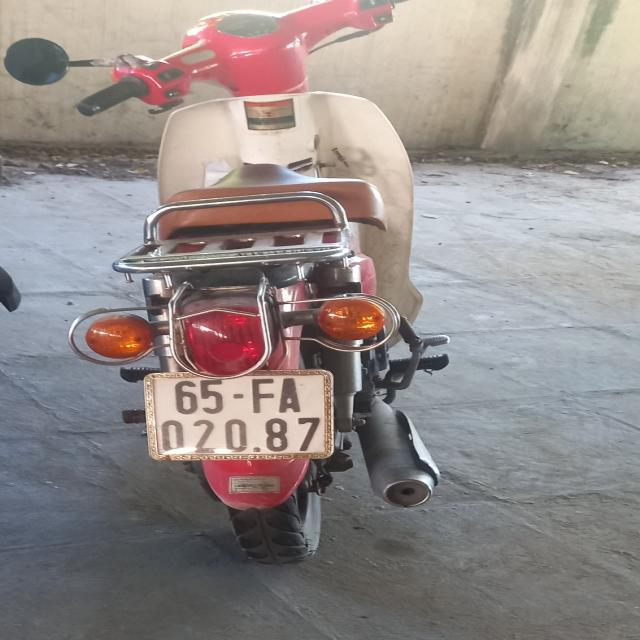0: (223, 419, 249, 451), (161, 420, 185, 452)
2: (192, 419, 219, 454)
5: (199, 379, 225, 414)
6: (175, 380, 197, 416)
7: (297, 416, 320, 451)
8: (264, 417, 290, 451)
A: (278, 378, 302, 413)
F: (250, 377, 274, 413)
